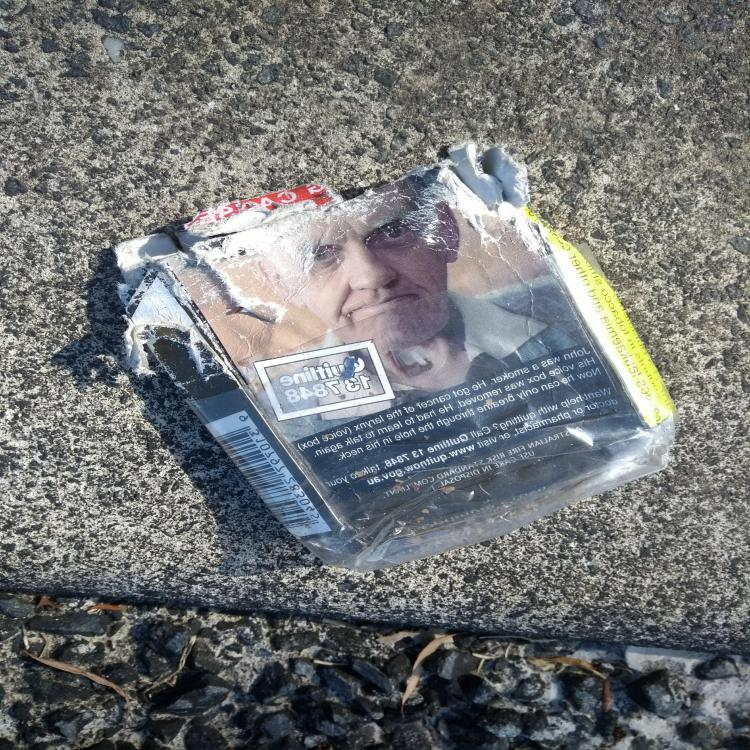Other carton: (116, 142, 675, 558)
Plastic film: (186, 243, 681, 574)
